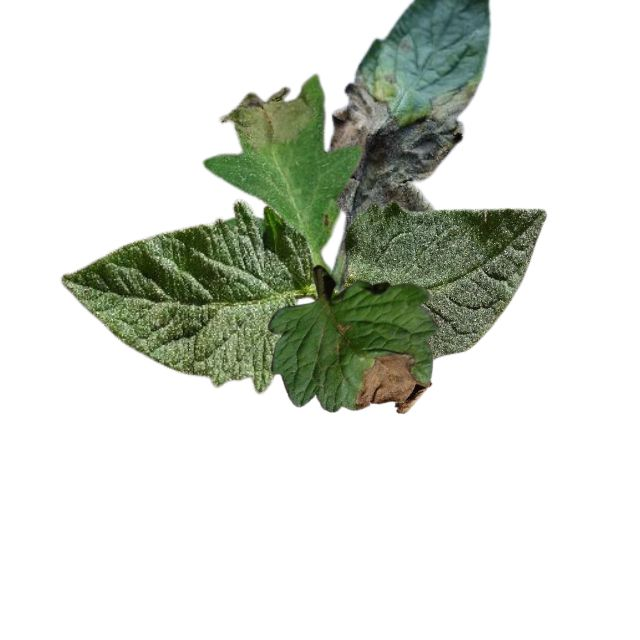Late_blight: (327, 68, 480, 212), (215, 87, 314, 150), (355, 351, 432, 415)
